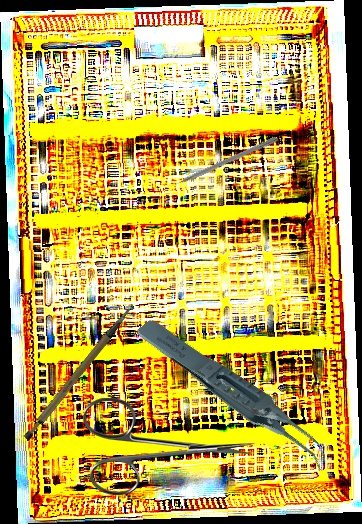Iris Scissors: (83, 398, 255, 495)
Pusher: (161, 135, 279, 192)
Scalpel Handle: (7, 307, 151, 444)
Tissue Forceps: (134, 287, 334, 506)
